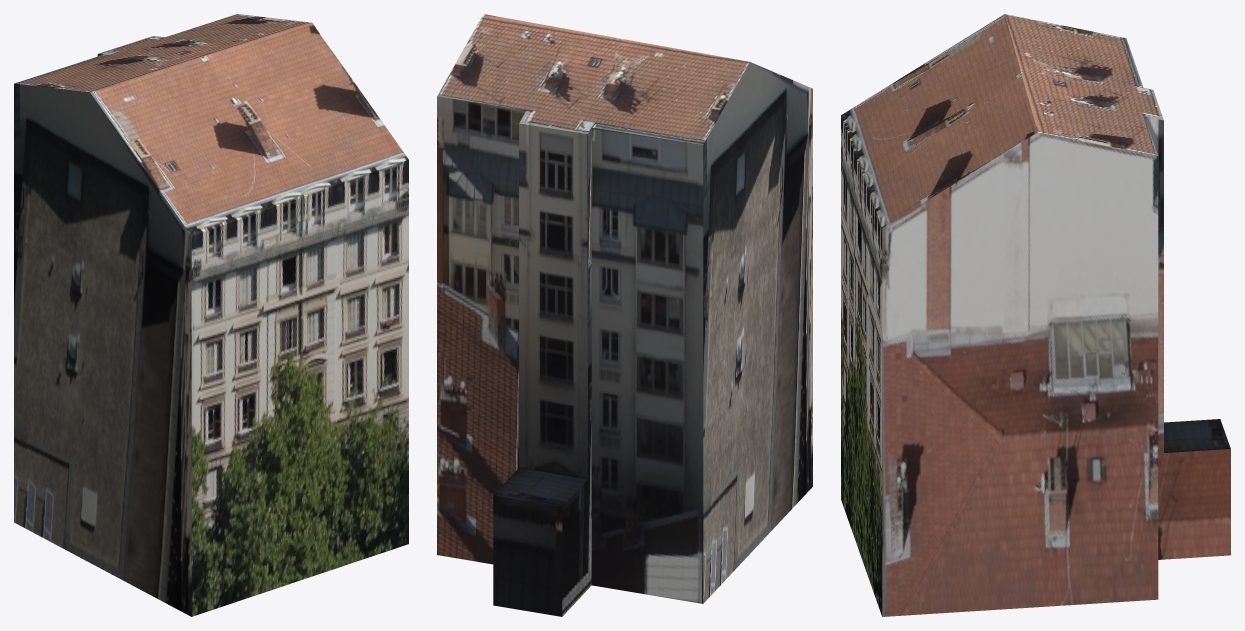
The picture shows the model from 3 angles, left to right: view 1: azimuth 30°, elevation 25°; view 2: azimuth 150°, elevation 25°; view 3: azimuth 270°, elevation 25°; orthographic projection. The views are drawn at different scales.
Parts seen in each view (by area): view 1: Z_UP; view 2: Z_UP; view 3: Z_UP.
Boxes of the visible parts, x1=… form: Z_UP: x1=14, y1=14, x2=408, y2=616; Z_UP: x1=437, y1=14, x2=812, y2=616; Z_UP: x1=841, y1=14, x2=1230, y2=616.
Bounding box in the file's own units: 17.31 × 28.41 × 21.1.
2 materials, 1 textured.
